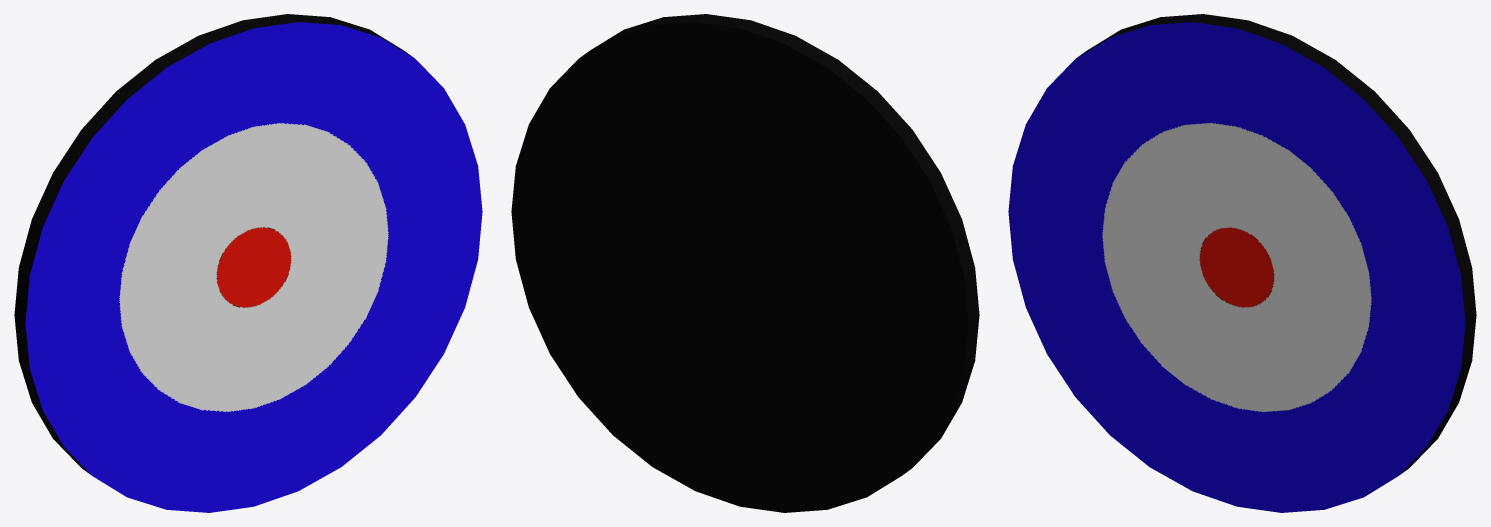
File: Target.fbx
3 views of the same model, side by side, from view 1: azimuth 30°, elevation 25°; view 2: azimuth 150°, elevation 25°; view 3: azimuth 330°, elevation 25° (orthographic).
Visible parts, largest first — view 1: Cylinder; view 2: Cylinder; view 3: Cylinder.
Part boxes in pixels (bbox=[...]): Cylinder: bbox=[14, 14, 482, 512]; Cylinder: bbox=[511, 14, 979, 512]; Cylinder: bbox=[1008, 14, 1476, 512].
Bounding box in the file's own units: 600 × 600 × 25.
